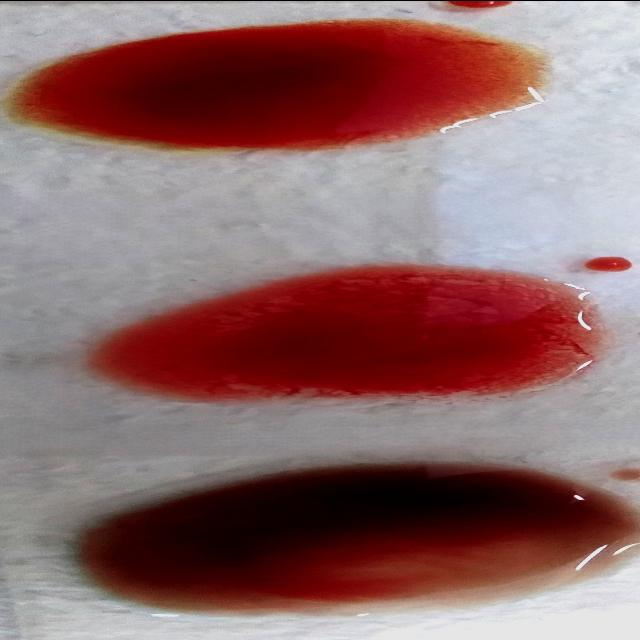D: (97, 271, 607, 400)
